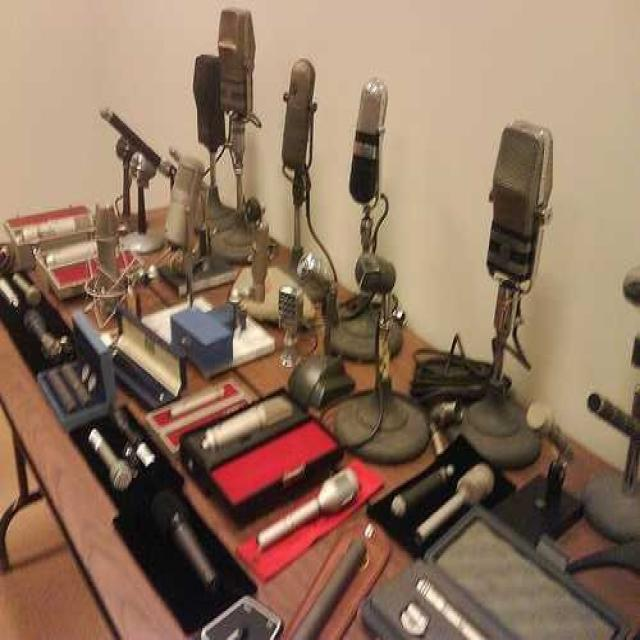microphone: (485, 121, 552, 288), (256, 472, 358, 546), (410, 462, 494, 545), (151, 488, 216, 592), (351, 78, 388, 206), (202, 398, 290, 450), (163, 153, 206, 254), (182, 51, 221, 162), (217, 8, 255, 121), (281, 59, 315, 174), (391, 463, 453, 518), (585, 391, 640, 444), (94, 205, 121, 284), (318, 470, 357, 512), (88, 428, 123, 472), (457, 464, 494, 504), (218, 9, 240, 62), (356, 253, 381, 292), (23, 307, 50, 343), (130, 152, 158, 185), (430, 400, 461, 429), (525, 402, 551, 434), (622, 264, 640, 304), (244, 197, 262, 226), (25, 286, 42, 308), (157, 160, 175, 180), (116, 136, 130, 160), (587, 392, 602, 414), (99, 107, 113, 122)
